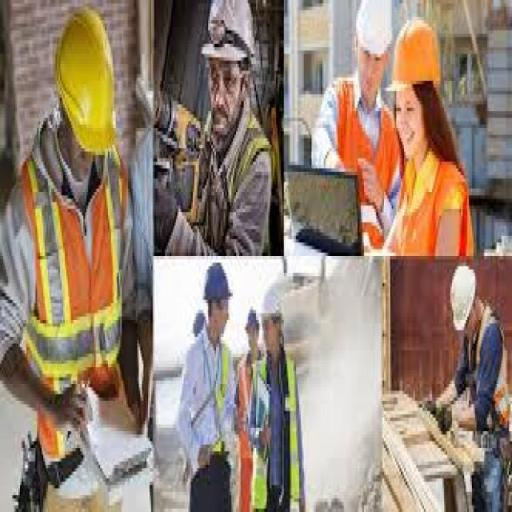helmet: (51, 6, 122, 158), (390, 13, 443, 101), (200, 0, 256, 64), (352, 0, 396, 64), (448, 262, 478, 334), (199, 259, 235, 303), (256, 276, 286, 323)
vest: (17, 155, 131, 411), (324, 84, 400, 253), (191, 118, 276, 256), (394, 138, 474, 260), (252, 354, 306, 508), (462, 296, 510, 422)
